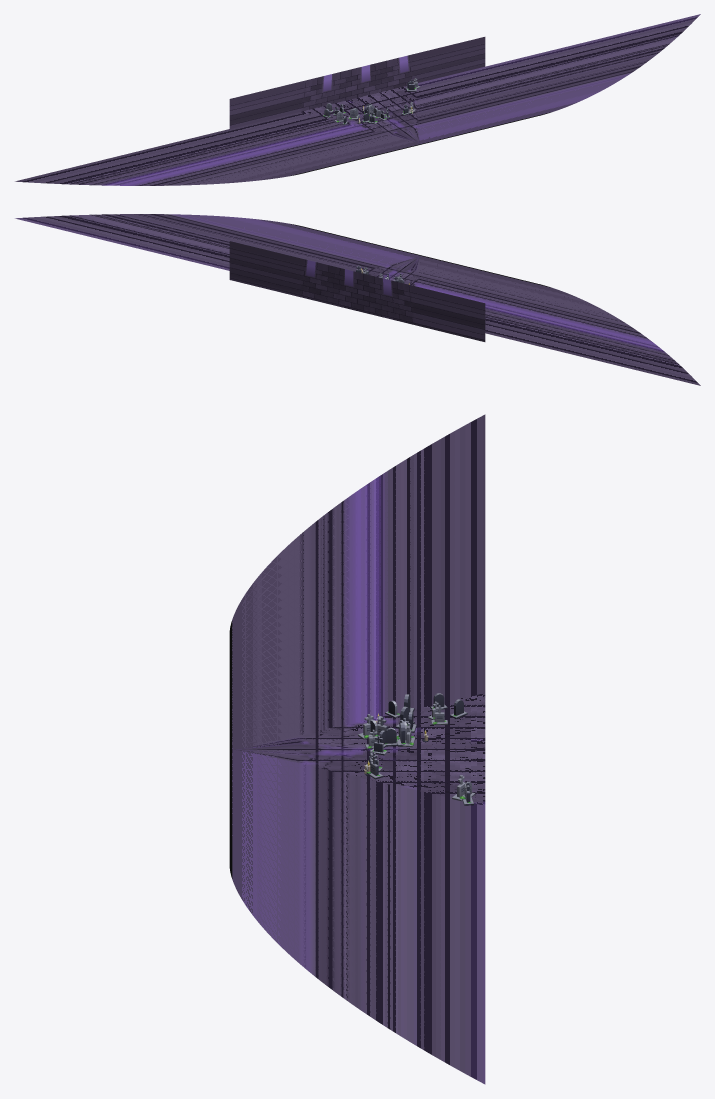
Rendered from bg_tower.glb.
3 views of the same model, one above another, from view 1: azimuth 30°, elevation 25°; view 2: azimuth 150°, elevation 25°; view 3: azimuth 270°, elevation 25° (orthographic). The views are drawn at different scales.
Visible parts, largest first — view 1: ground, tower_wall, tower_decor; view 2: ground, tower_wall; view 3: ground, tower_decor.
Boxes of the visible parts, bbox=[...] form: ground: bbox=[15, 14, 700, 185]; tower_wall: bbox=[229, 37, 485, 128]; tower_decor: bbox=[323, 78, 420, 124]; ground: bbox=[15, 214, 700, 385]; tower_wall: bbox=[229, 241, 485, 341]; ground: bbox=[229, 414, 485, 1084]; tower_decor: bbox=[358, 693, 475, 805].
Size of the model in its own units: 80 by 4.34 by 12.9.
4 materials, 2 textured.
